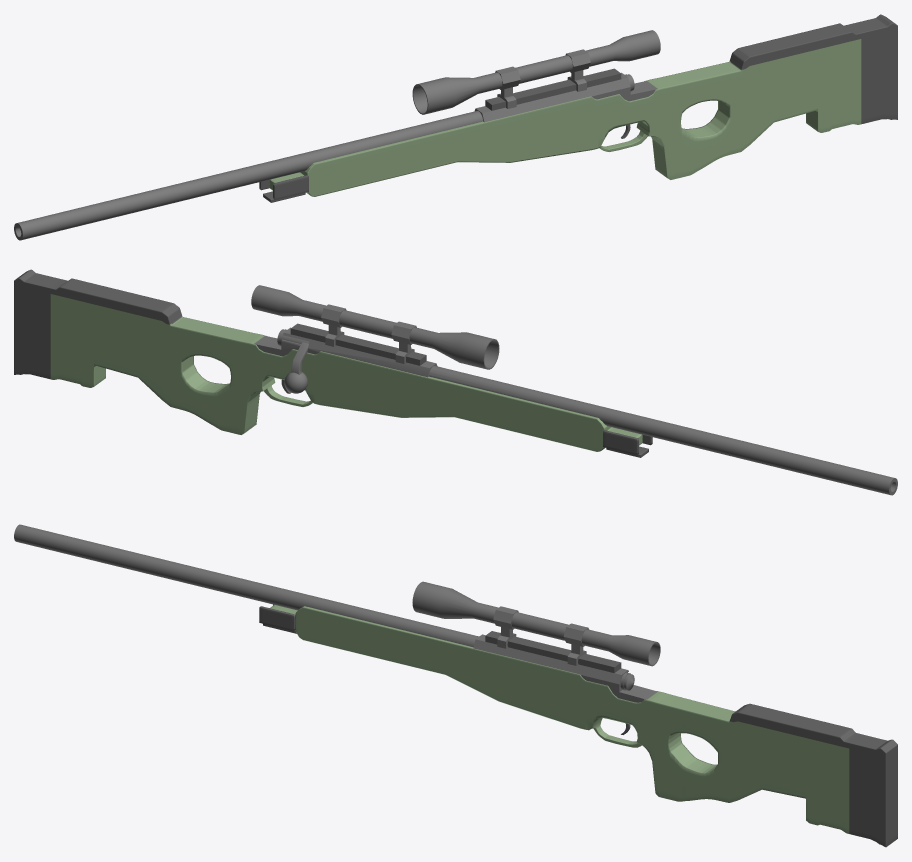
The model's file is Sniper.fbx.
3 views of the same model, one above another, from view 1: azimuth 30°, elevation 25°; view 2: azimuth 150°, elevation 25°; view 3: azimuth 330°, elevation 25° (orthographic).
Parts seen in each view (by area): view 1: polySurface15; view 2: polySurface15; view 3: polySurface15.
Part boxes in pixels (box(x1,y1,x2,y2)): polySurface15: box(14, 14, 897, 240); polySurface15: box(14, 269, 897, 495); polySurface15: box(14, 524, 897, 847).
Bounding box in the file's own units: 23.51 × 3.87 × 1.27.
